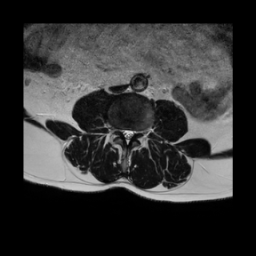CCS_normal: (125, 124, 130, 148)
LFS_severe_stenosis: (135, 125, 141, 139)
LLS_stenosis: (130, 126, 135, 141)
RFS_severe_stenosis: (115, 123, 121, 135)
RLS_stenosis: (121, 125, 125, 138)
